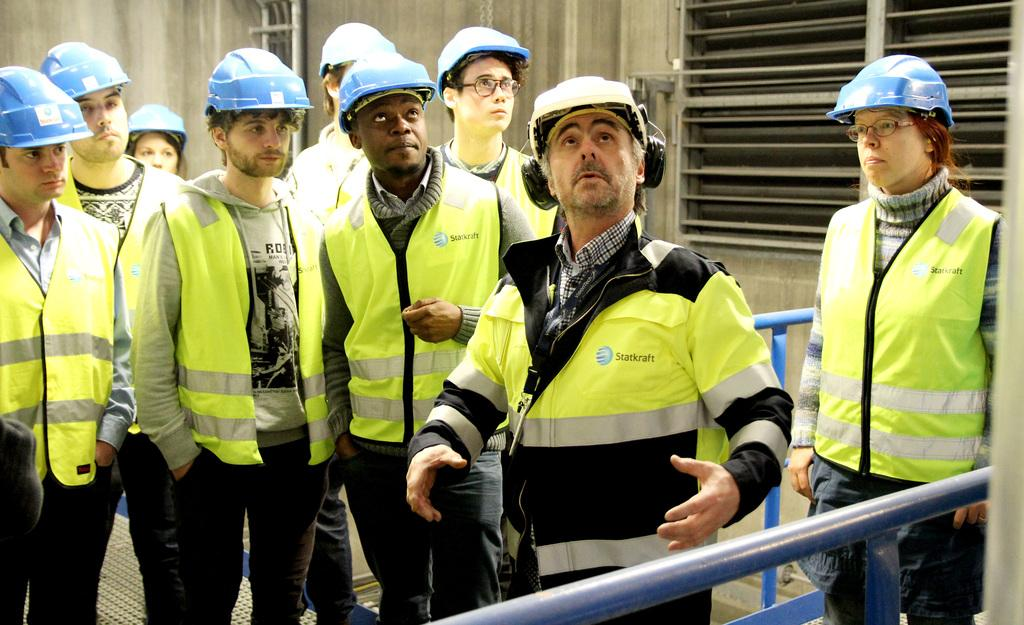helmet: (826, 54, 954, 186), (527, 76, 648, 206), (204, 47, 315, 174), (0, 65, 94, 196), (30, 41, 132, 157), (338, 49, 437, 166), (436, 26, 530, 128), (319, 22, 401, 113), (123, 103, 189, 185)
